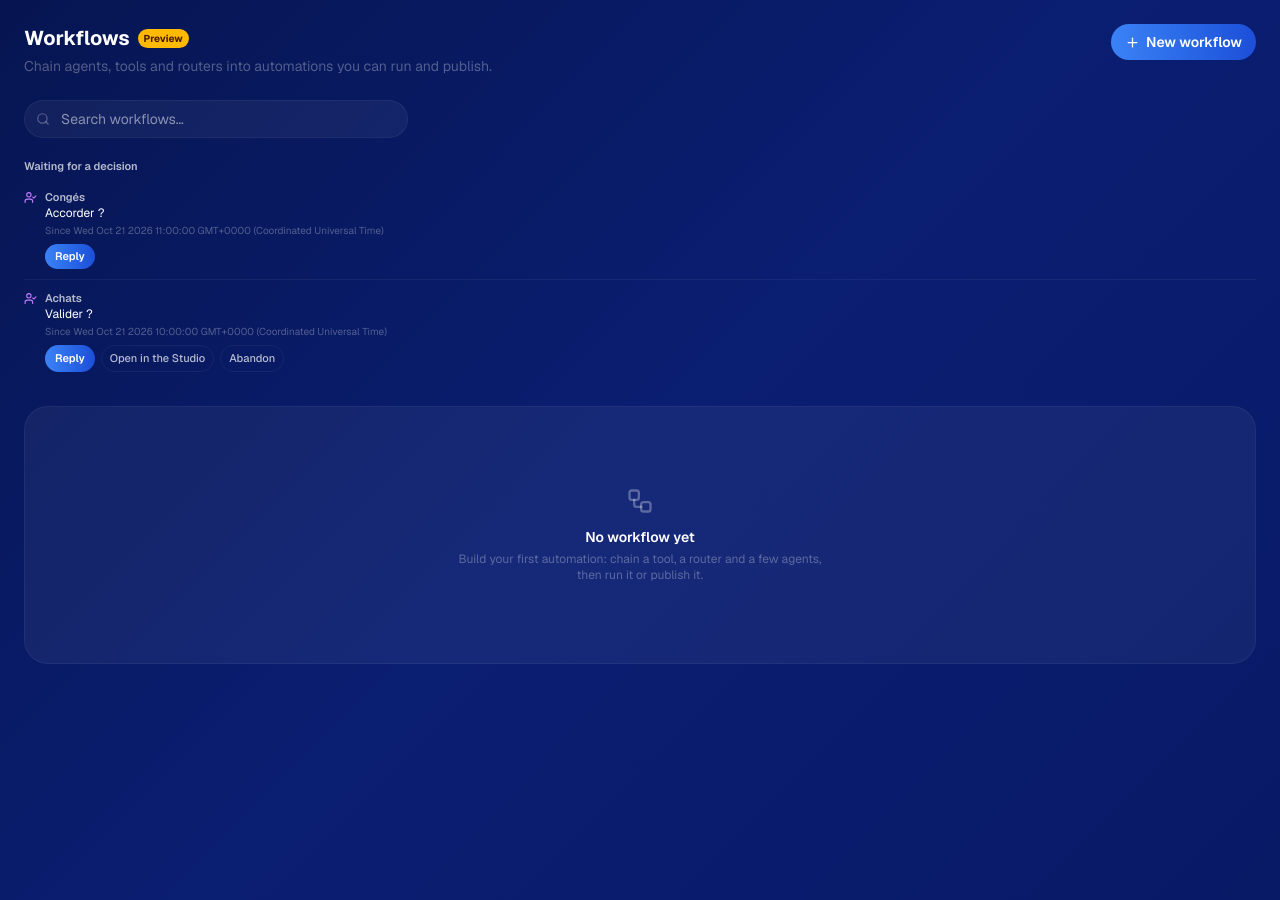
Test: WorkflowsPage - answering a decision › says when the run is now waiting for another decision
Step 1. Click the button "Reply" below "Accorder ?" → (70,256), box [45, 244, 95, 268]
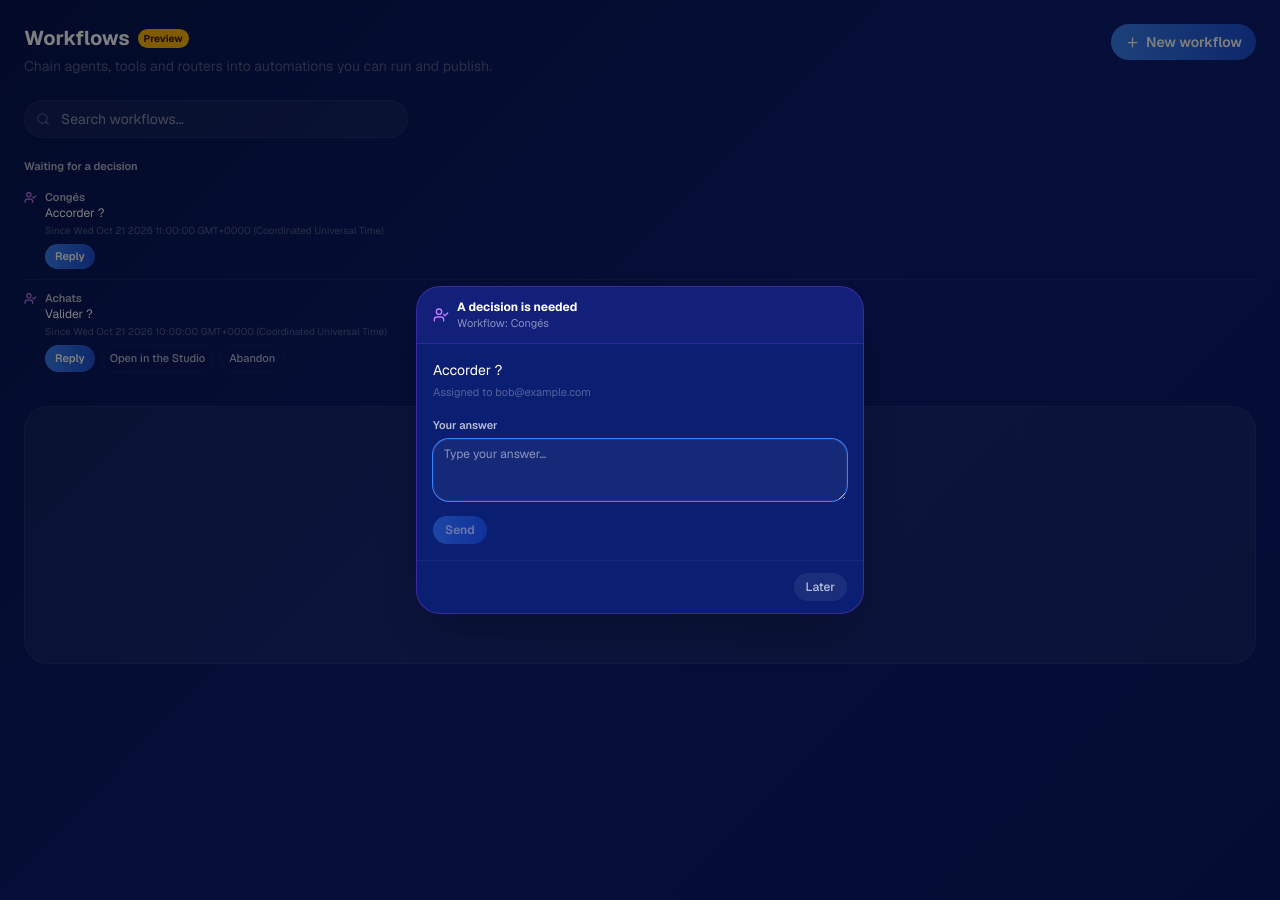
Step 2. Type "x" into the text box → (640,470), box [433, 439, 847, 501]
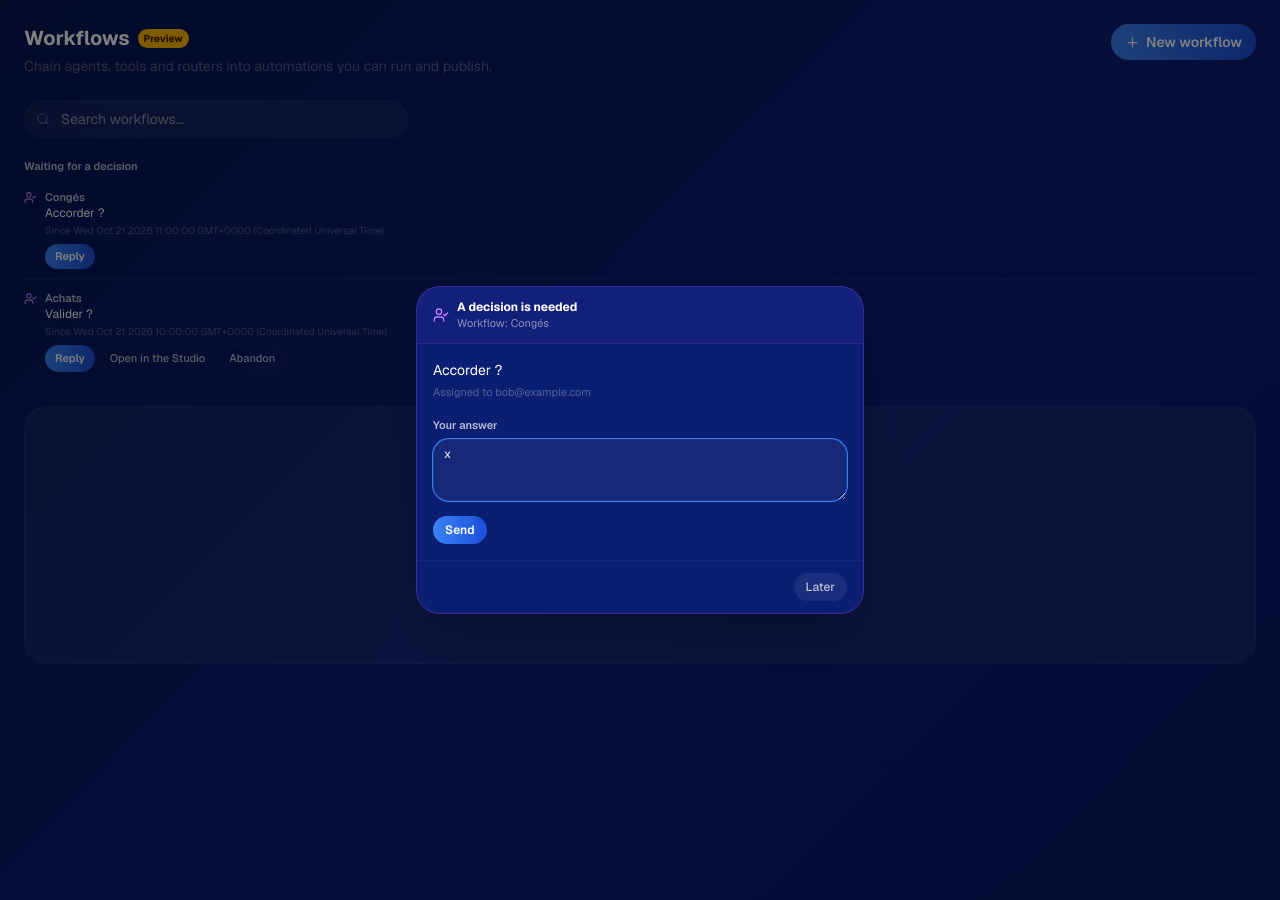
Step 3. Click the button "Send" → (460,530), box [433, 516, 487, 544]
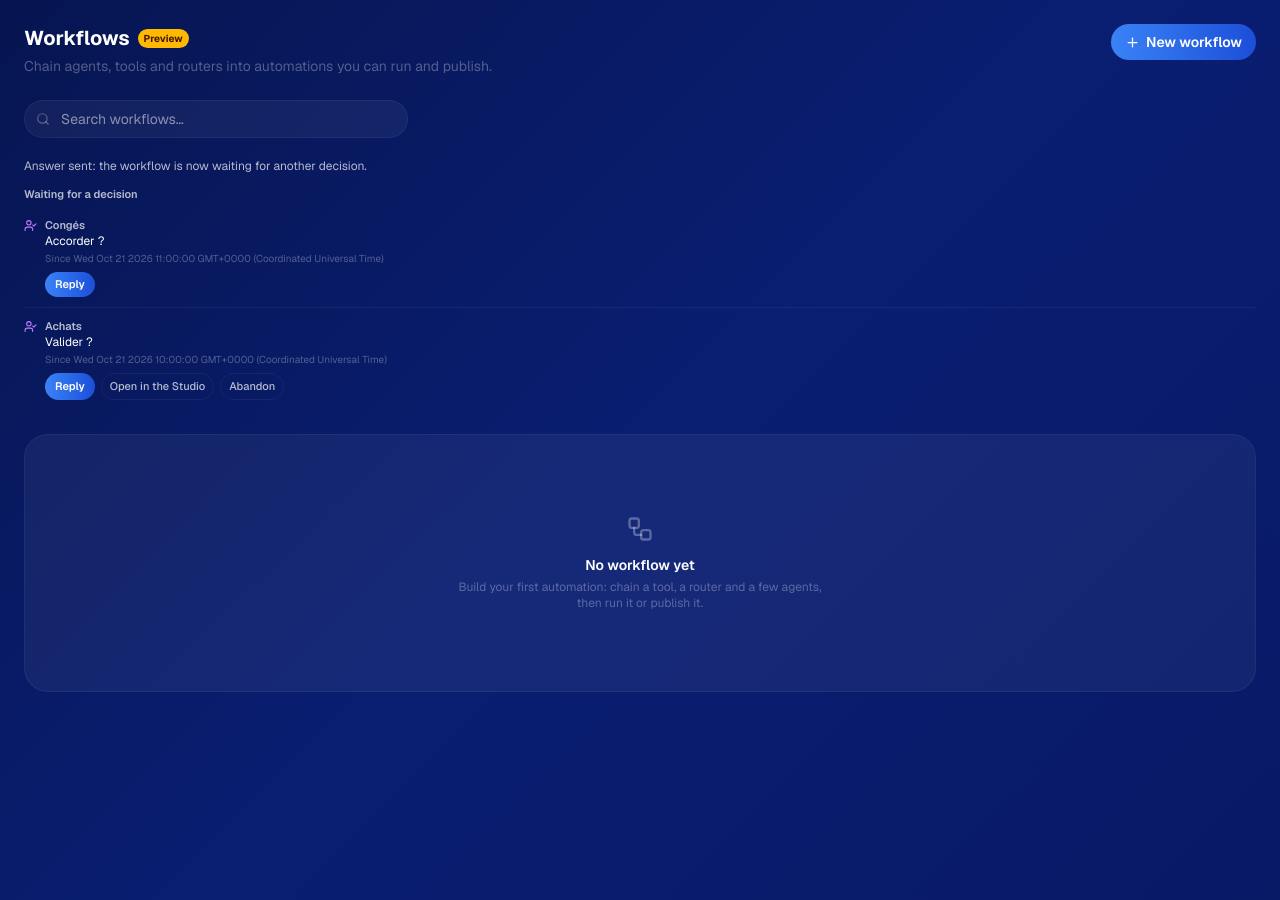
Result: the text "Answer sent: the workflow is now waiting for another decision." is shown at [24, 158, 367, 174]
